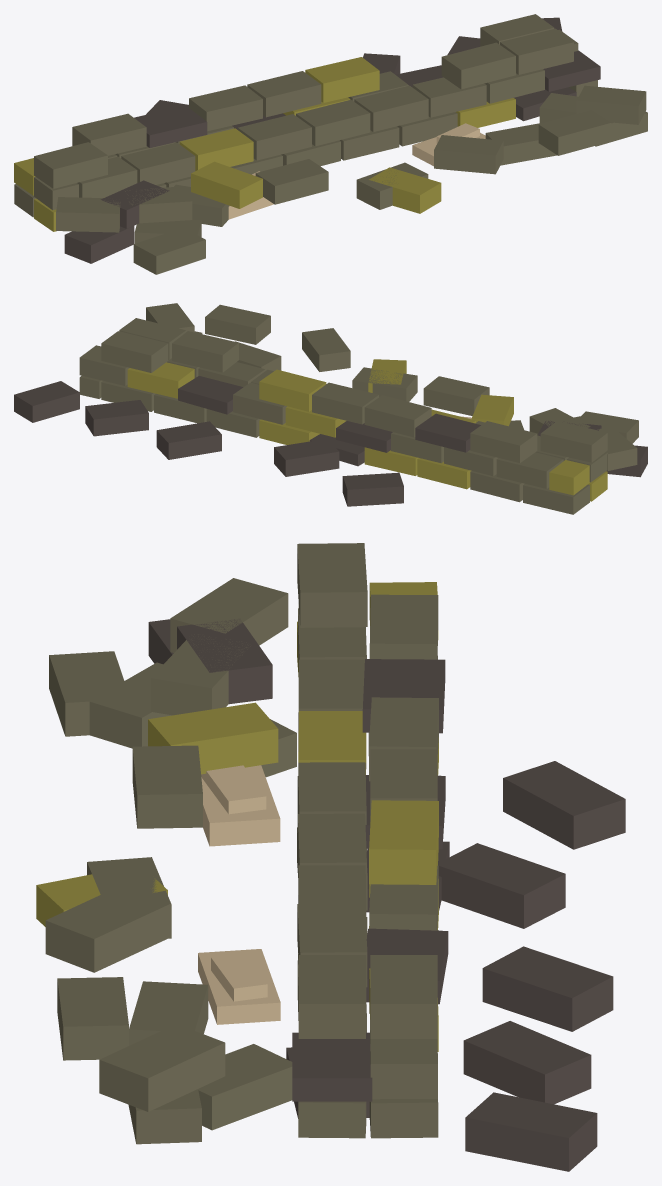
Rendered from SM_MuroSacos_v2_Irregular_e2_MuyDanado_LOD0.fbx.
3 views of the same model, one above another, from view 1: azimuth 30°, elevation 25°; view 2: azimuth 150°, elevation 25°; view 3: azimuth 270°, elevation 25° (orthographic). The views are drawn at different scales.
Parts seen in each view (by area): view 1: SM_bloques.muro_sacos_estados_v10_LOD0; view 2: SM_bloques.muro_sacos_estados_v10_LOD0; view 3: SM_bloques.muro_sacos_estados_v10_LOD0.
Part boxes in pixels (bbox=[...]): SM_bloques.muro_sacos_estados_v10_LOD0: bbox=[14, 14, 647, 274]; SM_bloques.muro_sacos_estados_v10_LOD0: bbox=[14, 303, 647, 514]; SM_bloques.muro_sacos_estados_v10_LOD0: bbox=[36, 543, 625, 1171].
Size of the model in its own units: 8.7 by 0.885 by 4.11.
